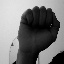a: (17, 6, 61, 46)
